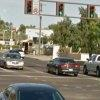Car: (39, 50, 94, 79)
